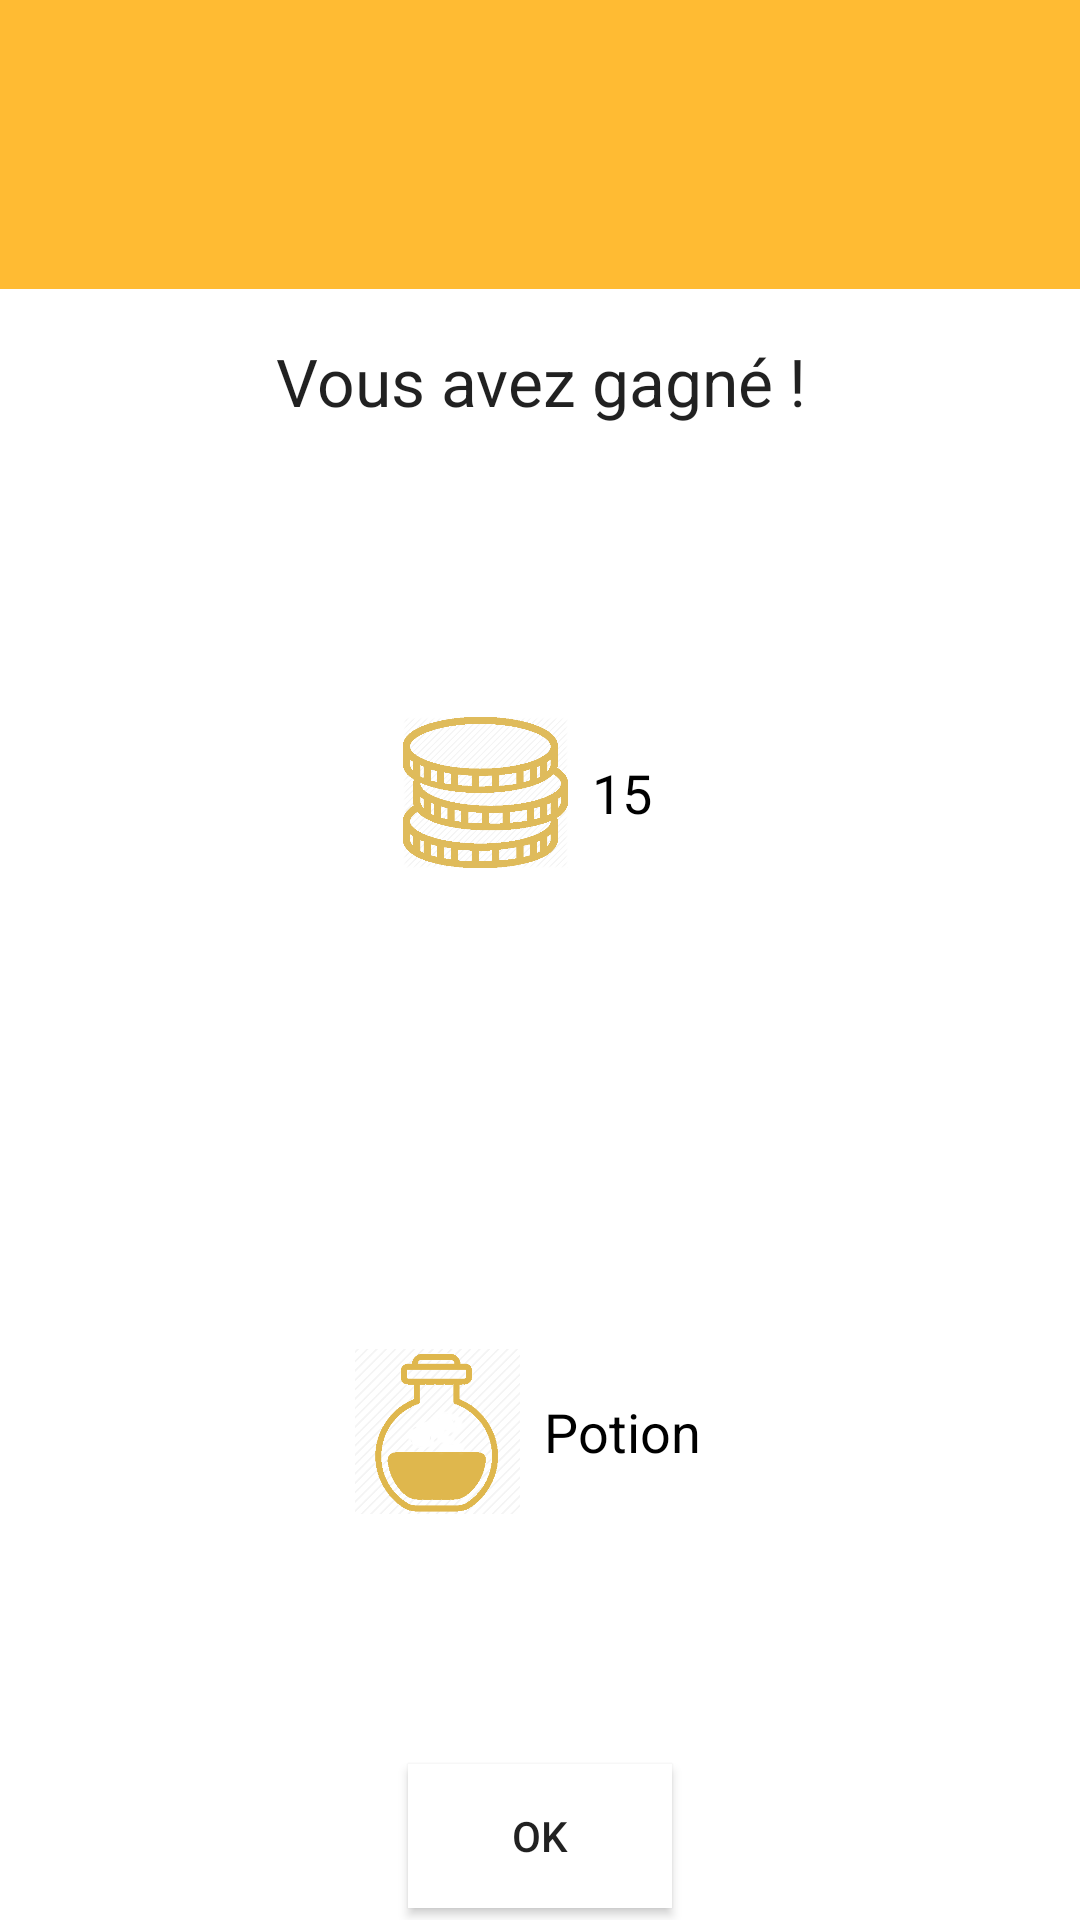

Point at icon controls on the screen. Image size 1080px x 1920px, points as point (x, y).
coins: point (485, 792)
